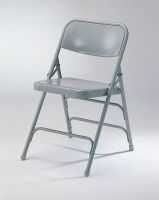obstacle: (21, 19, 133, 175)
